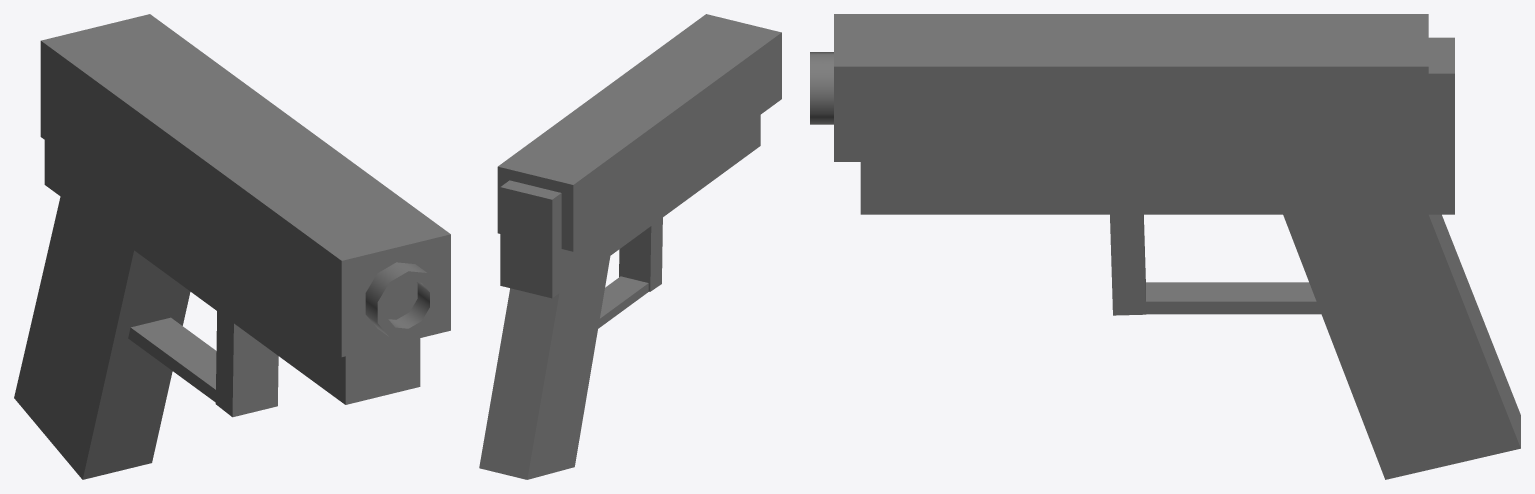
File: PistonPlaceHolder.gltf
The picture shows the model from 3 angles, left to right: view 1: azimuth 30°, elevation 25°; view 2: azimuth 150°, elevation 25°; view 3: azimuth 270°, elevation 25°; orthographic projection. The views are drawn at different scales.
Visible parts, largest first — view 1: PistolPlaceholder; view 2: PistolPlaceholder; view 3: PistolPlaceholder.
Boxes of the visible parts, x1=… form: PistolPlaceholder: x1=14, y1=14, x2=450, y2=479; PistolPlaceholder: x1=479, y1=14, x2=781, y2=479; PistolPlaceholder: x1=810, y1=14, x2=1520, y2=479.
Bounding box in the file's own units: 0.0442 × 0.1655 × 0.2521.
Materials: 1 (1 with a texture image).
